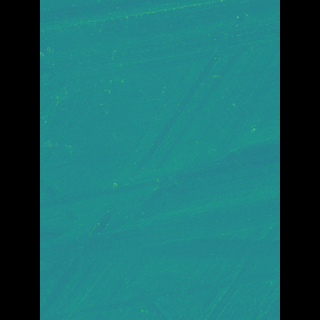Loch: (69, 50, 158, 316)
